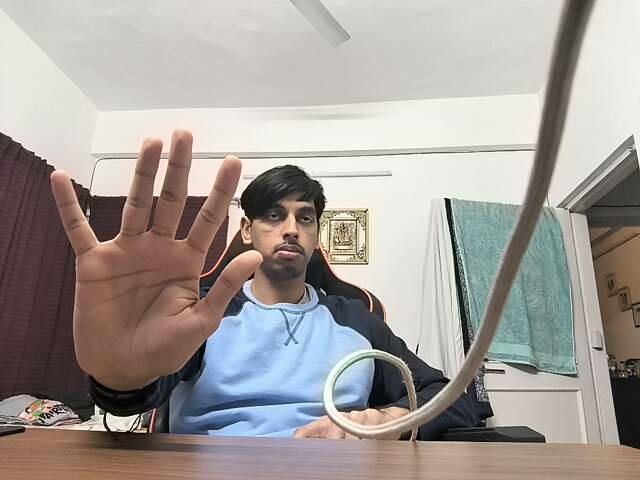STOP: (42, 120, 258, 394)
